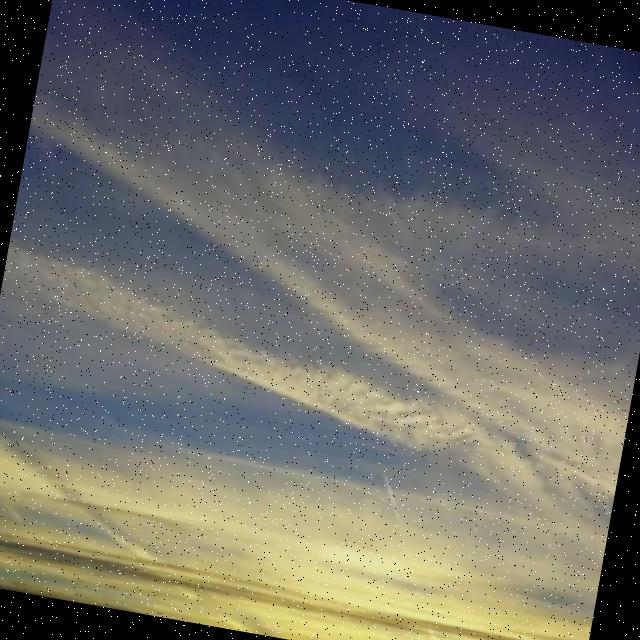Ct: (1, 1, 640, 606)
